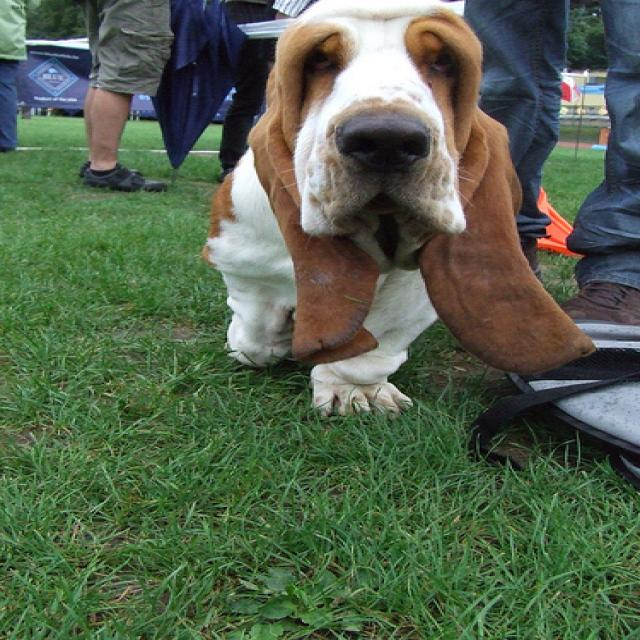dog-basset_hound: (196, 1, 606, 426)
